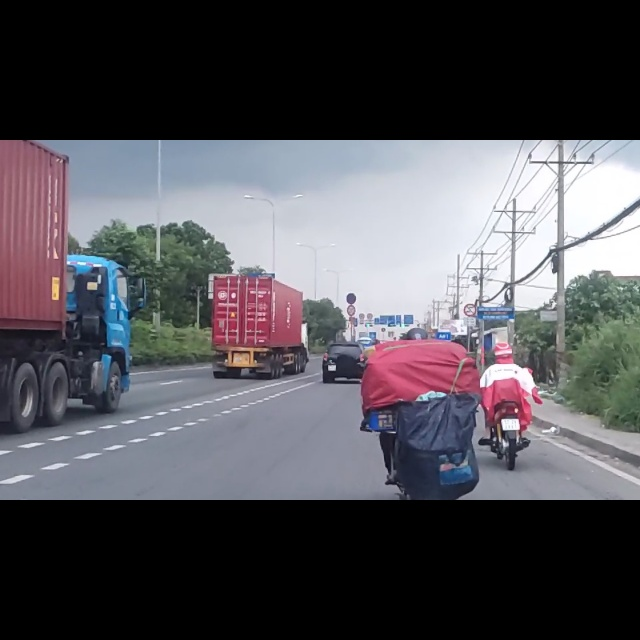bien_hieu_lenh: (464, 290, 477, 313), (345, 271, 357, 292)
